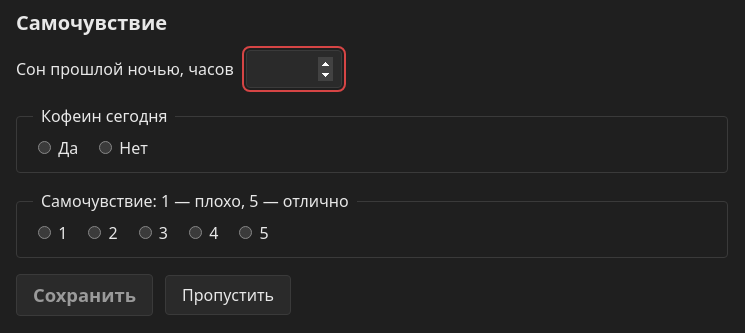
Wellbeing › saves sleep, caffeine and mood once all are given
Later steps or results of the test are not shown.
Expected: the button "Сохранить" is disabled, left=16, top=274, right=153, bottom=316
Step 1. Type "7.5" into the number field labelled "Сон прошлой ночью, часов" → (294, 69), box left=246, top=50, right=342, bottom=88
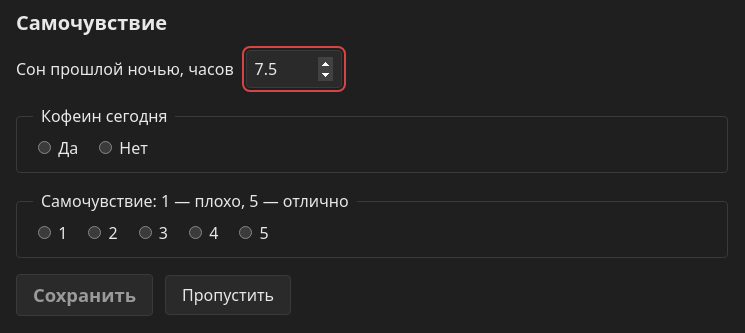
Step 2. Click the radio button labelled "Да" → (44, 148), box left=38, top=141, right=51, bottom=154
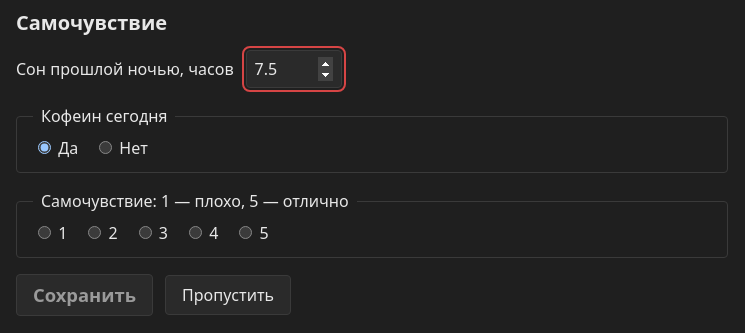
Expected: the button "Сохранить" is disabled, left=16, top=274, right=153, bottom=316
Step 3. Click the radio button labelled "4" → (196, 232), box left=189, top=226, right=202, bottom=239
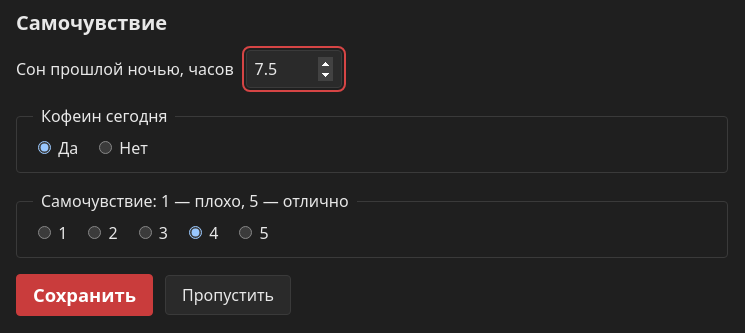
Now the button "Сохранить" is enabled, box left=16, top=274, right=153, bottom=316
